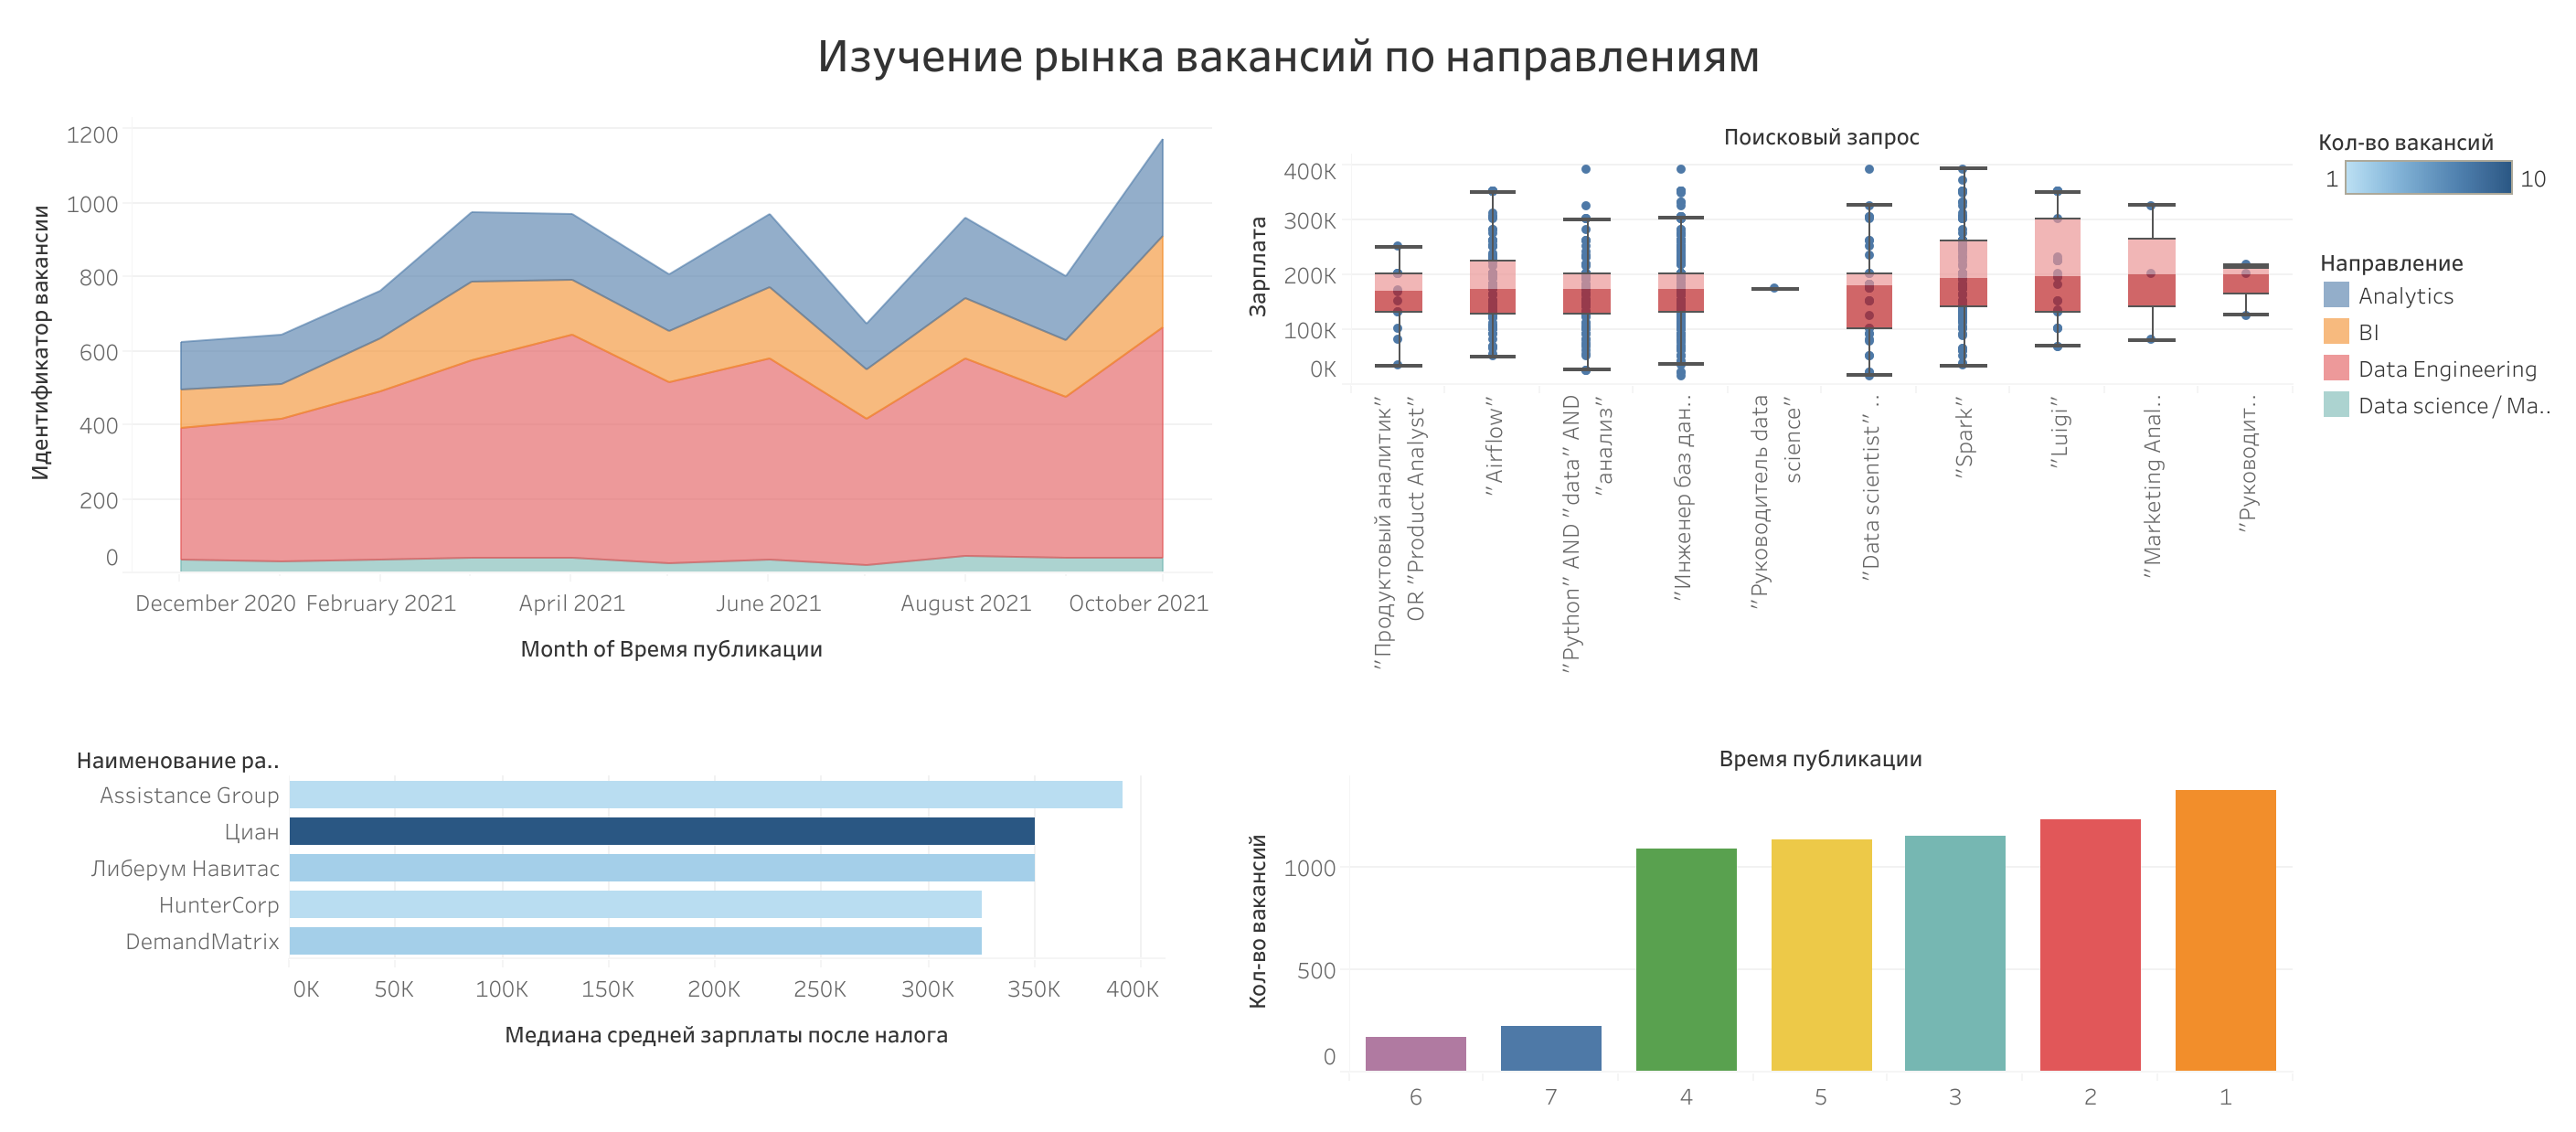

This screenshot's page, from the dashboard's own definition file:
{"tool":"tableau","page":{"name":"Dashboard 1","canvas":[1000,1000],"units":"permille","ordinal":0},"visuals":[{"type":"title","box":[6.6,12.7,986.8,82.4]},{"type":"worksheet","title":"Sheet 5","mark":"Area","rows":["vacancy_id"],"cols":["published_at"],"box":[6.6,95.1,457.6,507.1]},{"type":"worksheet","title":"Sheet 3","mark":"Circle","rows":["salary_net"],"cols":["query_string"],"box":[464.2,95.1,410.1,507.1]},{"type":"legend","title":"Sheet 4","param":"[federated.1m8ucih1388tc910eia4j1eg2v9i].[ctd:vacancy_id:qk]","box":[874.4,95.1,119,103]},{"type":"legend","title":"Sheet 5","param":"[federated.1m8ucih1388tc910eia4j1eg2v9i].[none:direction:nk]","box":[874.4,198.1,119,168]},{"type":"worksheet","title":"Sheet 4","mark":"Automatic","rows":["employer_name"],"cols":["salary_net"],"box":[6.6,602.2,457.6,385.1]},{"type":"worksheet","title":"Sheet 2","mark":"Bar","rows":["vacancy_id"],"cols":["published_at"],"box":[464.2,602.2,410.1,385.1]}]}

Visuals, with their boxes on the dashboard's canvas, which has no fixed pixel size, in thousandths of its width and height (x1, y1, x2, y2). These are canvas units, not pixel positions in the 2576x1132 screenshot, which may show the page scaled, cropped or inside an application window:
title: rect(7, 13, 993, 95)
"Sheet 5" worksheet (Area marks): rect(7, 95, 464, 602)
"Sheet 3" worksheet (Circle marks): rect(464, 95, 874, 602)
"Sheet 4" legend: rect(874, 95, 993, 198)
"Sheet 5" legend: rect(874, 198, 993, 366)
"Sheet 4" worksheet: rect(7, 602, 464, 987)
"Sheet 2" worksheet (Bar marks): rect(464, 602, 874, 987)
